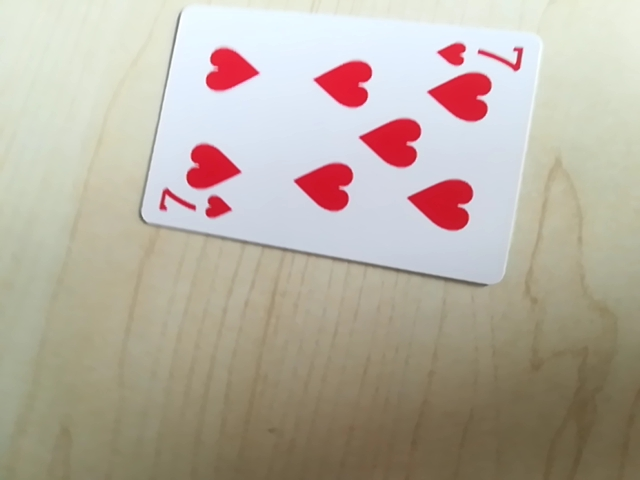hx 7: (436, 31, 530, 73), (152, 189, 234, 226)
